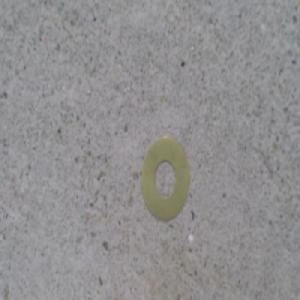Washer: (140, 133, 191, 225)
